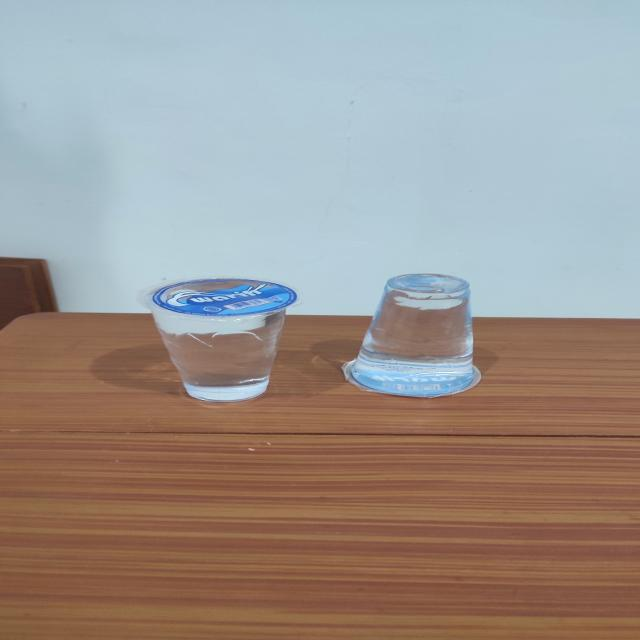air gelas: (335, 265, 507, 404), (143, 270, 319, 403)
